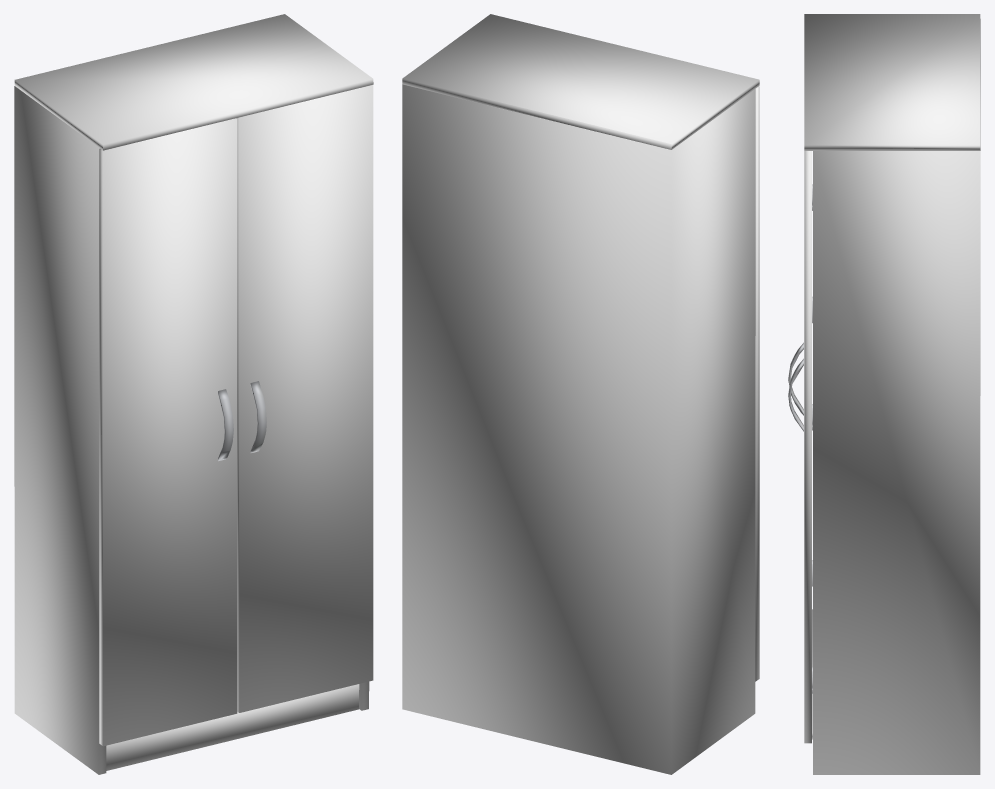
The model's file is abo-B079TYF1GK.glb.
3 renders of one model, left to right at view 1: azimuth 30°, elevation 25°; view 2: azimuth 150°, elevation 25°; view 3: azimuth 270°, elevation 25°, orthographic.
Visible parts, largest first — view 1: B079TYF1GK; view 2: B079TYF1GK; view 3: B079TYF1GK.
Boxes of the visible parts, <box> form: B079TYF1GK: <box>14,14,373,774</box>; B079TYF1GK: <box>402,14,759,774</box>; B079TYF1GK: <box>788,14,980,774</box>.
Bounding box in the file's own units: 0.7594 × 1.7 × 0.4695.
Materials: 1 (1 with a texture image).
